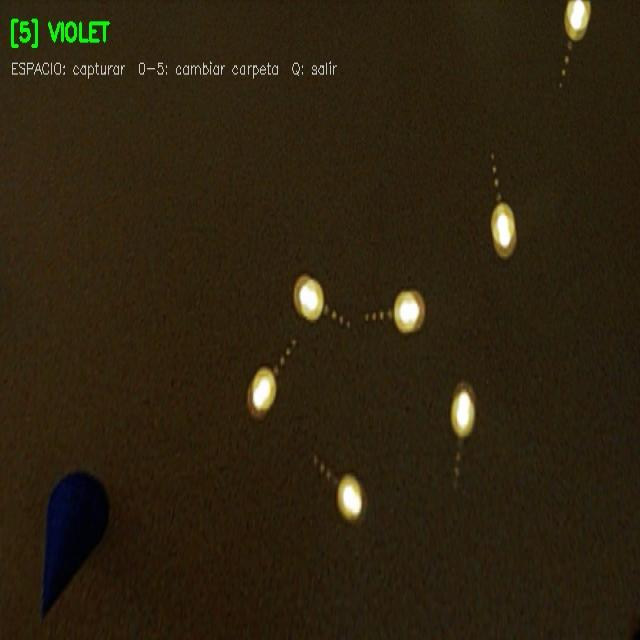violet: (42, 471, 109, 617)
